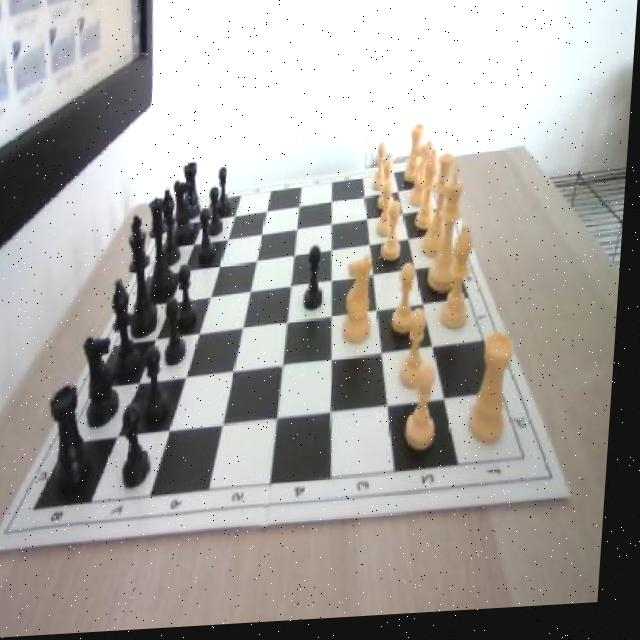bishop: (112, 279, 150, 379), (161, 188, 186, 266)
black-bishop: (127, 215, 170, 339)
black-king: (83, 336, 130, 430), (172, 179, 201, 244)
black-knight: (125, 402, 160, 491), (148, 345, 178, 431), (179, 264, 206, 335), (168, 300, 193, 368), (306, 249, 329, 315), (201, 212, 221, 269), (218, 170, 236, 223), (209, 189, 228, 238)
black-pawn: (147, 198, 183, 301)
black-queen: (52, 385, 101, 501), (184, 164, 206, 222)
black-rook: (445, 229, 481, 335), (417, 154, 443, 234)
white-bishop: (432, 166, 470, 296)
white-king: (345, 260, 381, 351), (412, 144, 439, 215)
white-knight: (409, 369, 447, 460), (400, 314, 433, 398), (395, 266, 425, 338), (383, 207, 407, 268), (378, 185, 400, 242), (381, 163, 398, 216), (376, 144, 391, 195)
white-pawn: (424, 160, 456, 266)
white-queen: (474, 338, 521, 452), (406, 129, 427, 190)
